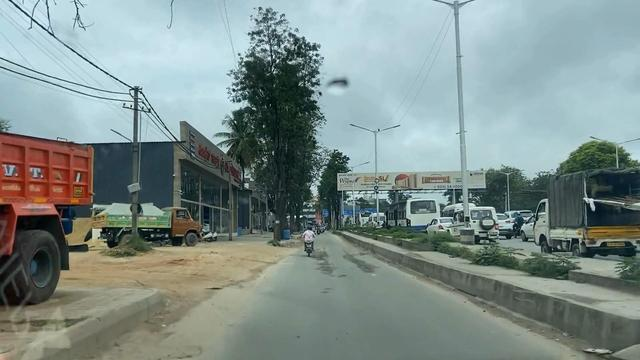RoadDamages: (62, 334, 211, 360)
